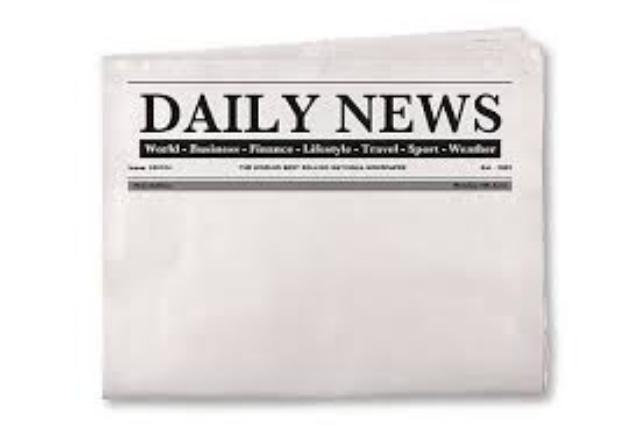cardboard paper: (102, 28, 542, 393)
